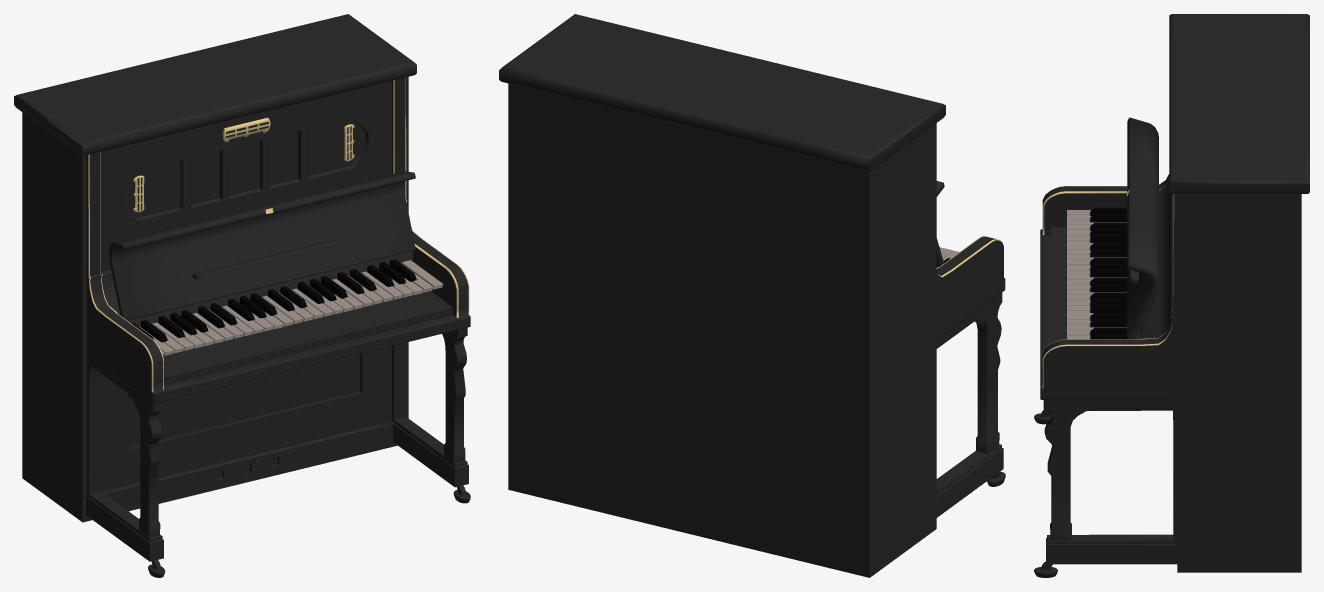
Rendered from PIANO.glb.
3 views of the same model, side by side, from view 1: azimuth 30°, elevation 25°; view 2: azimuth 150°, elevation 25°; view 3: azimuth 270°, elevation 25° (orthographic). The views are drawn at different scales.
Visible parts, largest first — view 1: Piano_Body; view 2: Piano_Body; view 3: Piano_Body.
Part boxes in pixels (bbox=[...]): Piano_Body: bbox=[14, 14, 470, 577]; Piano_Body: bbox=[499, 14, 1005, 577]; Piano_Body: bbox=[1034, 14, 1309, 577].
Size of the model in its own units: 7.11 by 7.91 by 4.93.
4 materials, 1 textured.
